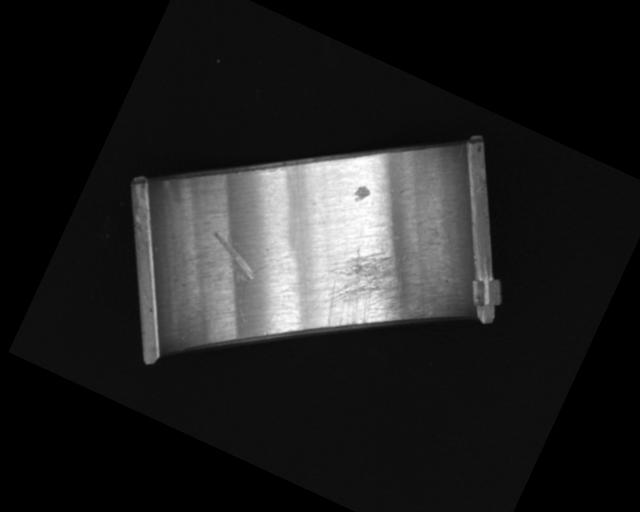bruise: (351, 182, 373, 206)
nick: (200, 230, 265, 286), (228, 254, 276, 327)
scratch: (303, 231, 444, 363)
